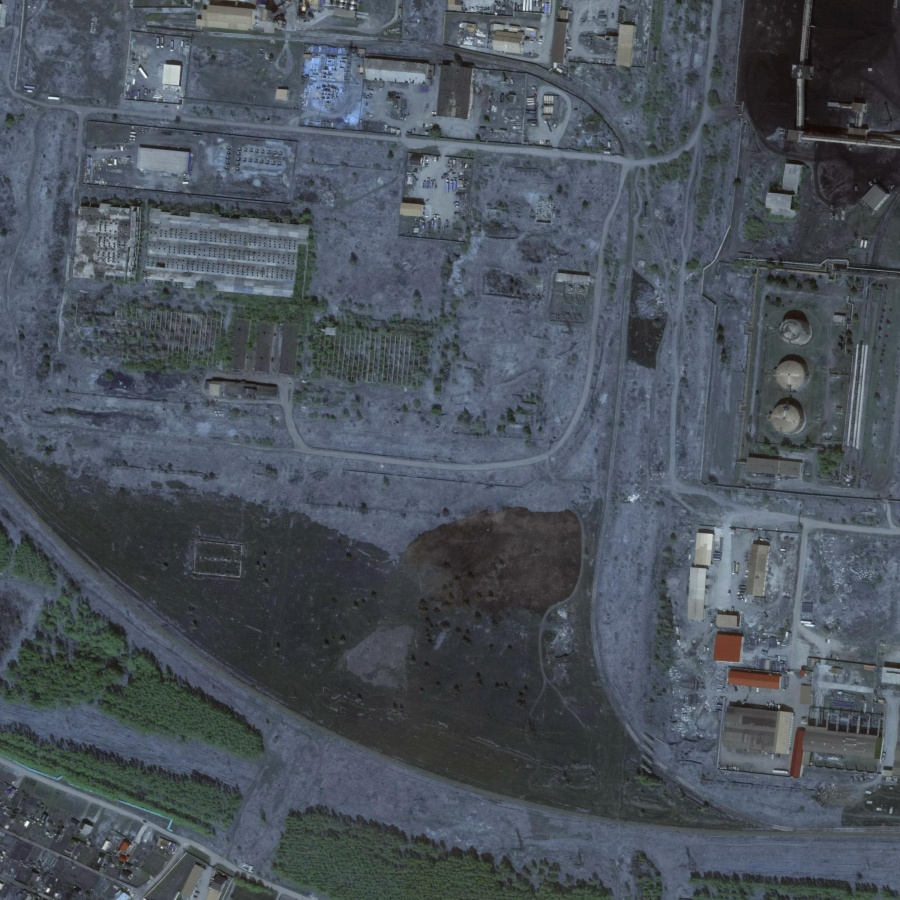PowerPlant: (730, 252, 878, 494)
